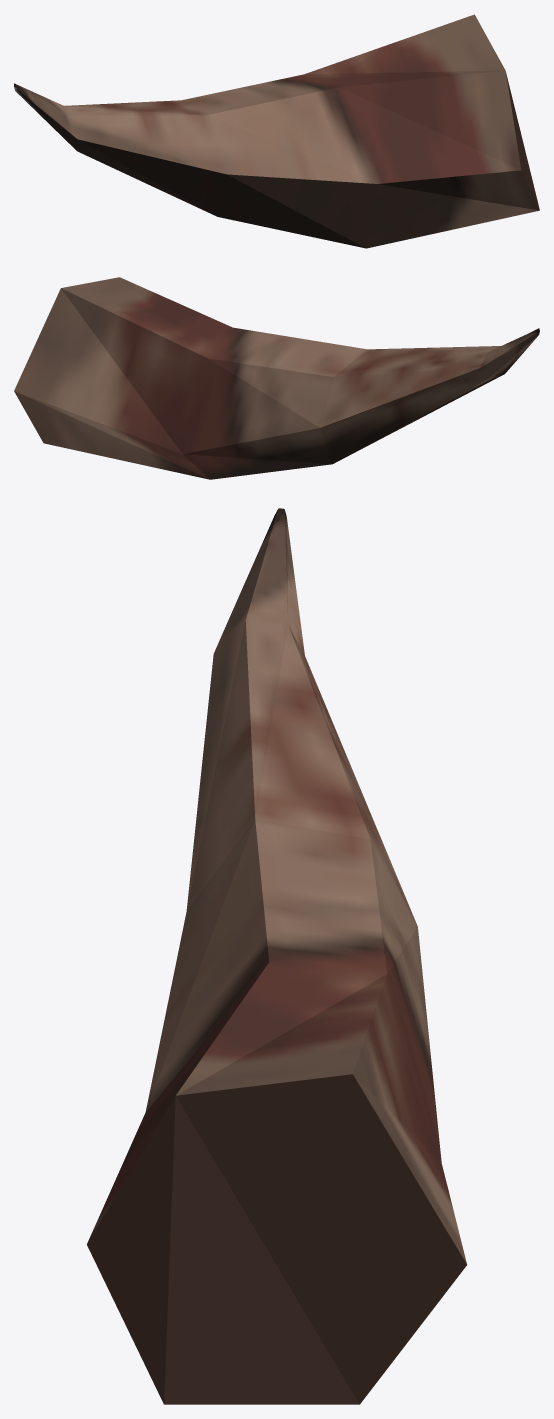
Rendered from SM_HornVessel.fbx.
3 views of the same model, one above another, from view 1: azimuth 30°, elevation 25°; view 2: azimuth 150°, elevation 25°; view 3: azimuth 270°, elevation 25° (orthographic). The views are drawn at different scales.
Visible parts, largest first — view 1: HornVessel_Visual; view 2: HornVessel_Visual; view 3: HornVessel_Visual.
Boxes of the visible parts, x1,y1,x2,y2 form: HornVessel_Visual: (14,14,539,248); HornVessel_Visual: (14,277,539,479); HornVessel_Visual: (87,508,466,1404).
Bounding box in the file's own units: 0.3498 × 0.1513 × 0.1206.
